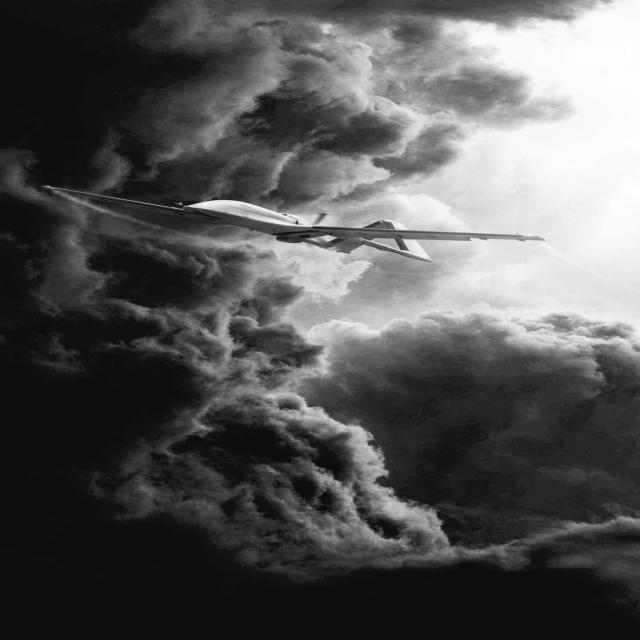iha: (14, 191, 542, 262)
